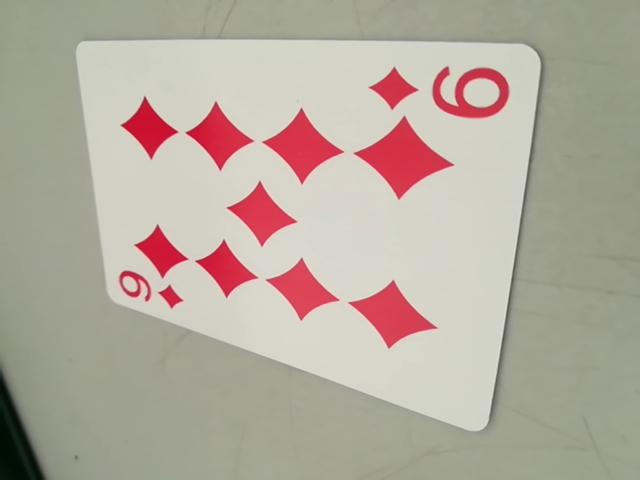fk 9: (369, 59, 512, 125), (113, 266, 189, 316)
